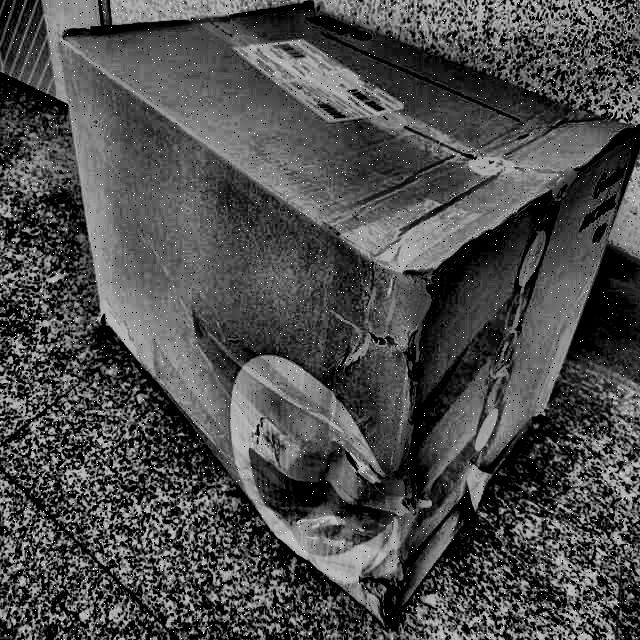box: (50, 0, 639, 625)
hole: (356, 564, 411, 622), (376, 329, 426, 377)
